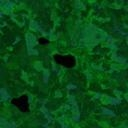alloviz: (52, 52, 77, 69), (10, 93, 30, 113), (36, 36, 50, 46)
